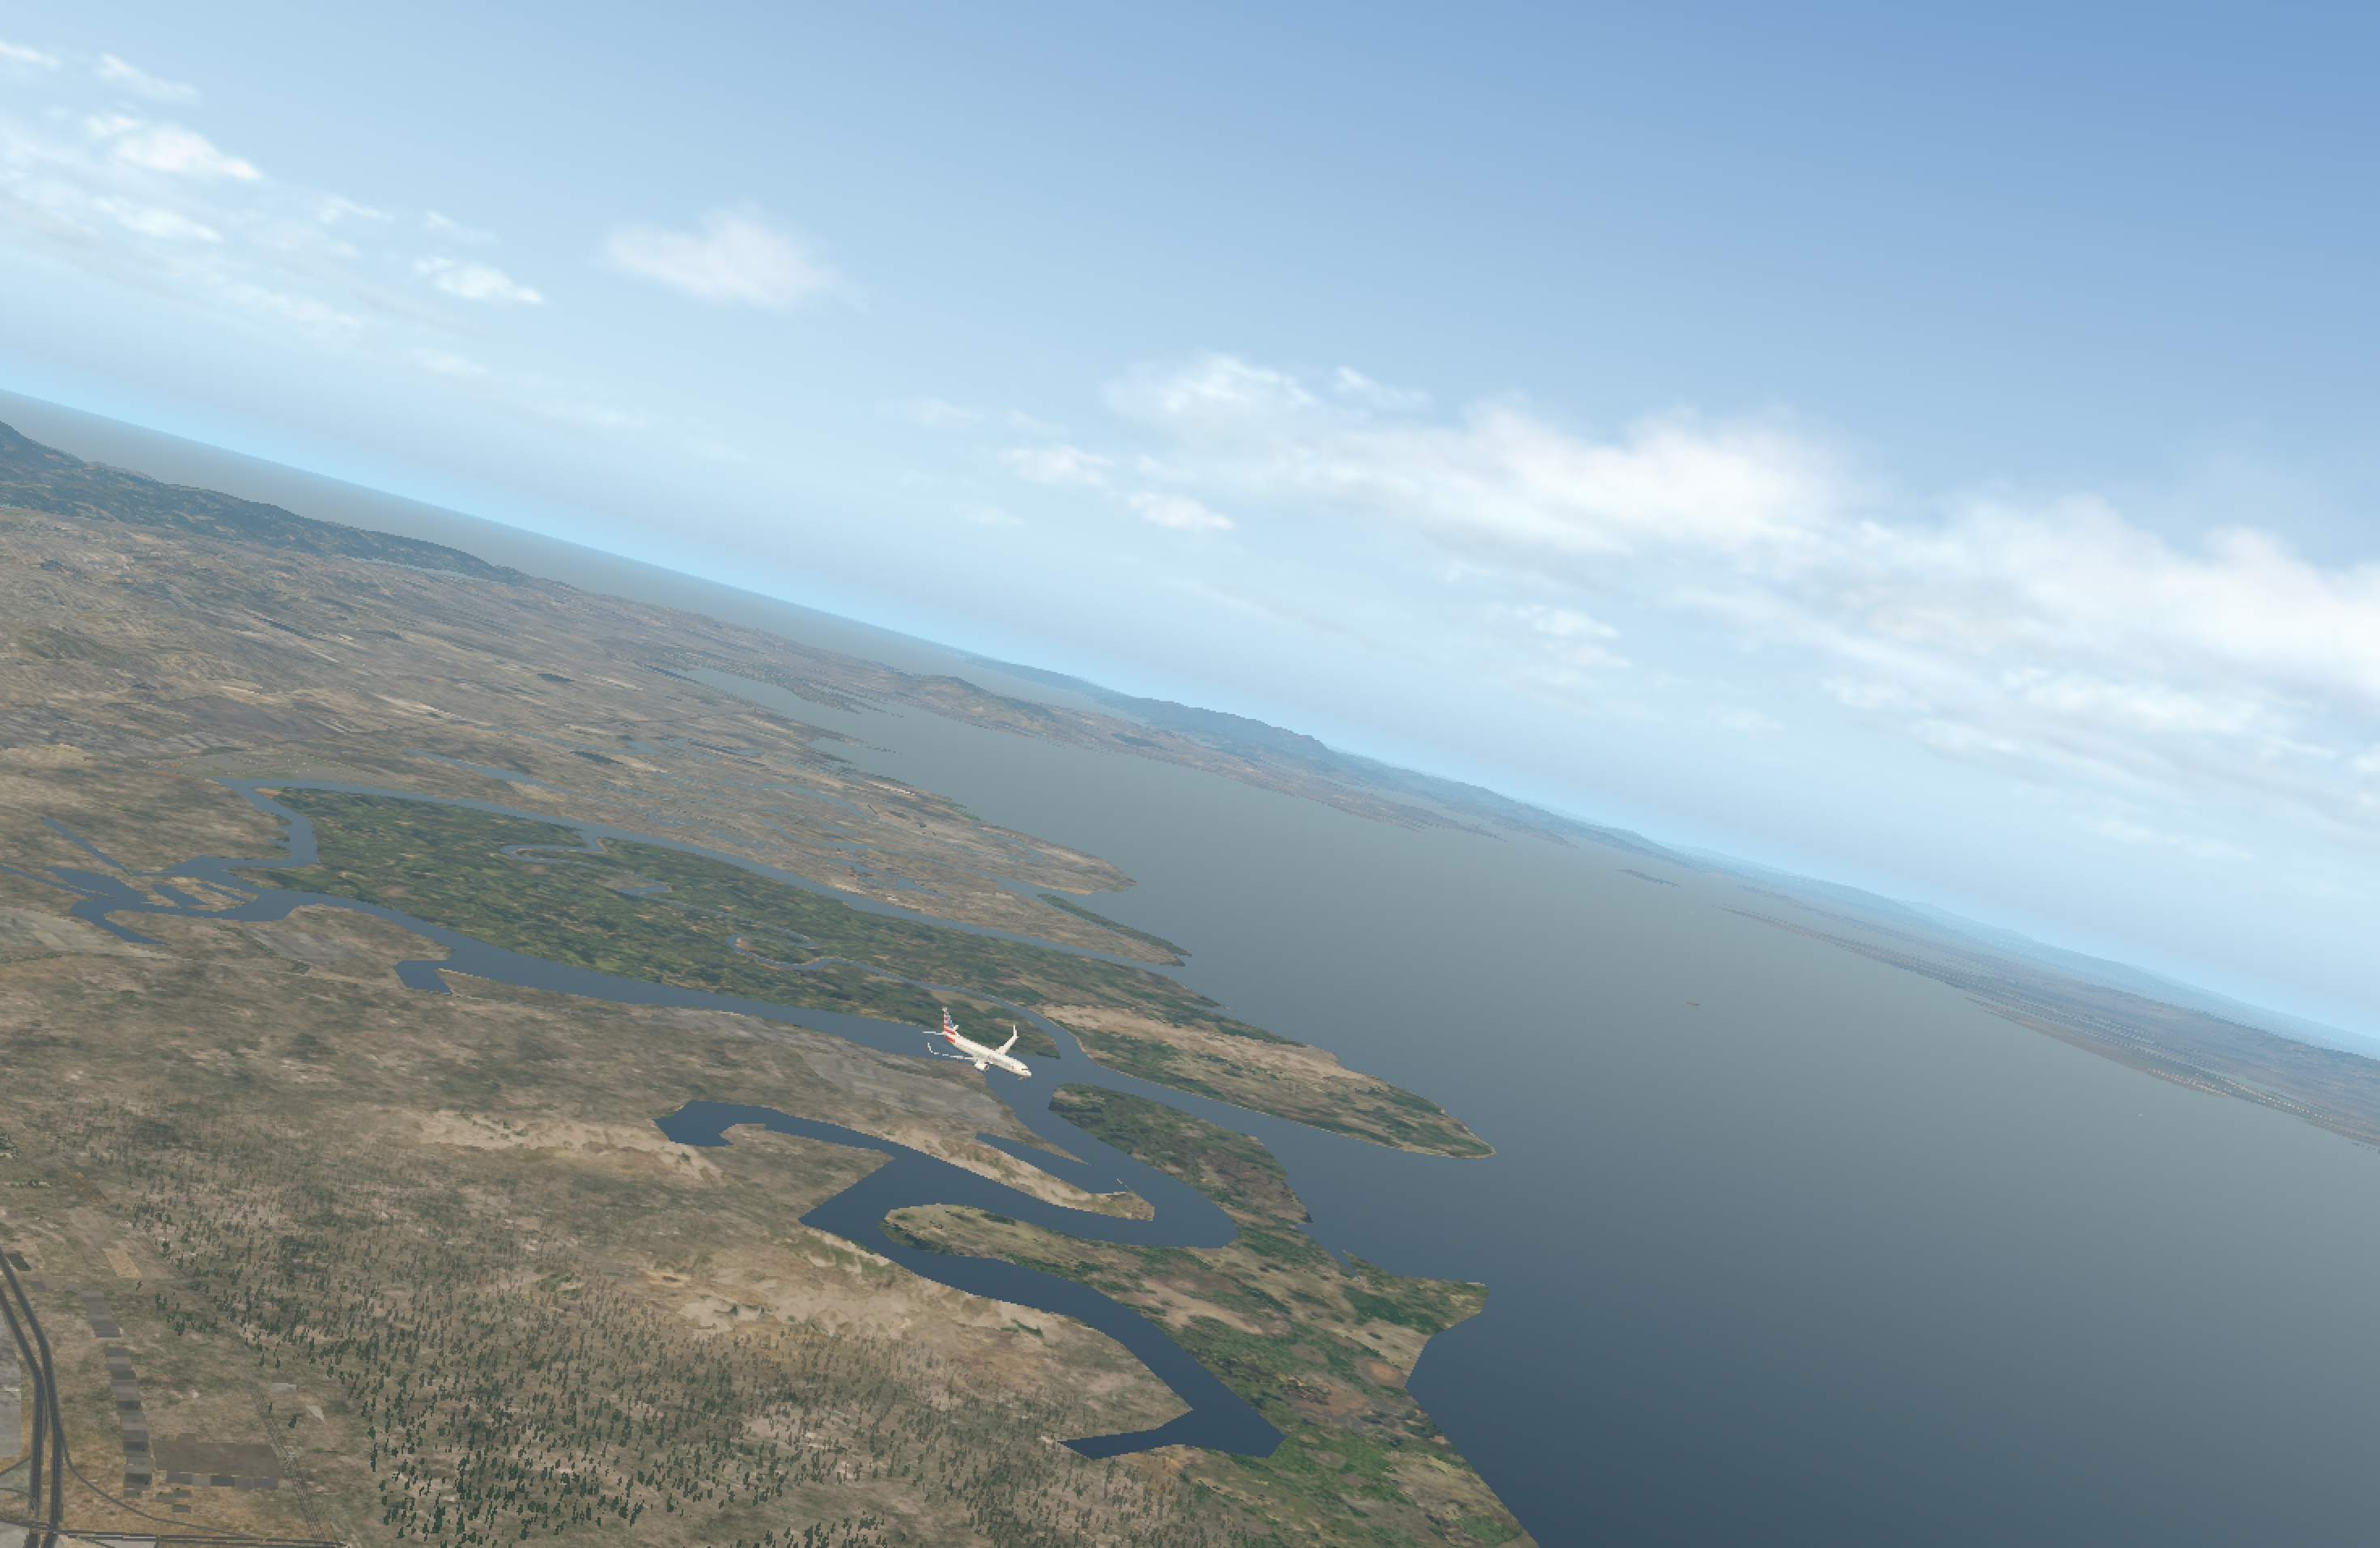aircraft: (921, 1033, 1055, 1083)
